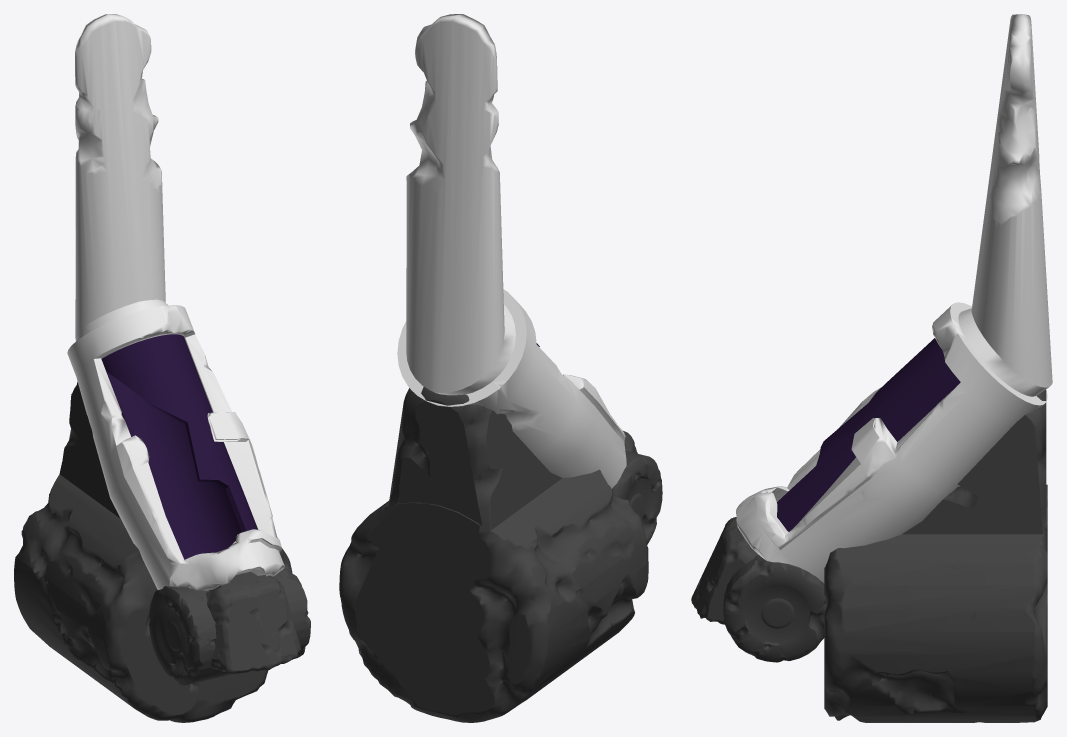
Rendered from Tubes.fbx.
3 views of the same model, side by side, from view 1: azimuth 30°, elevation 25°; view 2: azimuth 150°, elevation 25°; view 3: azimuth 270°, elevation 25° (orthographic). The views are drawn at different scales.
Parts seen in each view (by area): view 1: Tubos_dmg, Cube.079_dmg, Cylinder.007_dmg, Cylinder.008_dmg; view 2: Cube.079_dmg, Tubos_dmg, Cylinder.008_dmg; view 3: Tubos_dmg, Cube.079_dmg, Cylinder.008_dmg, Cylinder.007_dmg.
Part boxes in pixels (x1,y1,x2,y2): Tubos_dmg: (67,14,285,590); Cube.079_dmg: (14,381,292,722); Cylinder.007_dmg: (206,571,301,673); Cylinder.008_dmg: (149,561,310,685); Cube.079_dmg: (339,386,648,722); Tubos_dmg: (397,14,626,488); Cylinder.008_dmg: (612,451,662,544); Tubos_dmg: (736,14,1052,583); Cube.079_dmg: (824,389,1047,722); Cylinder.008_dmg: (723,555,827,662); Cylinder.007_dmg: (691,517,758,624).
Bounding box in the file's own units: 243 × 777 × 368.
